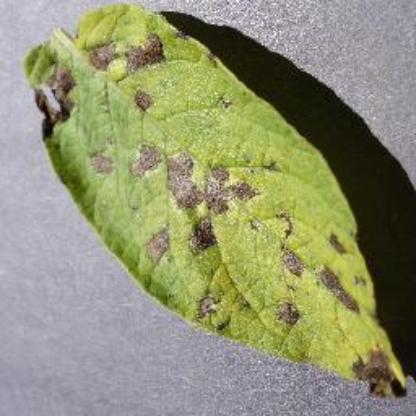Early-Blight: (26, 2, 406, 396)
